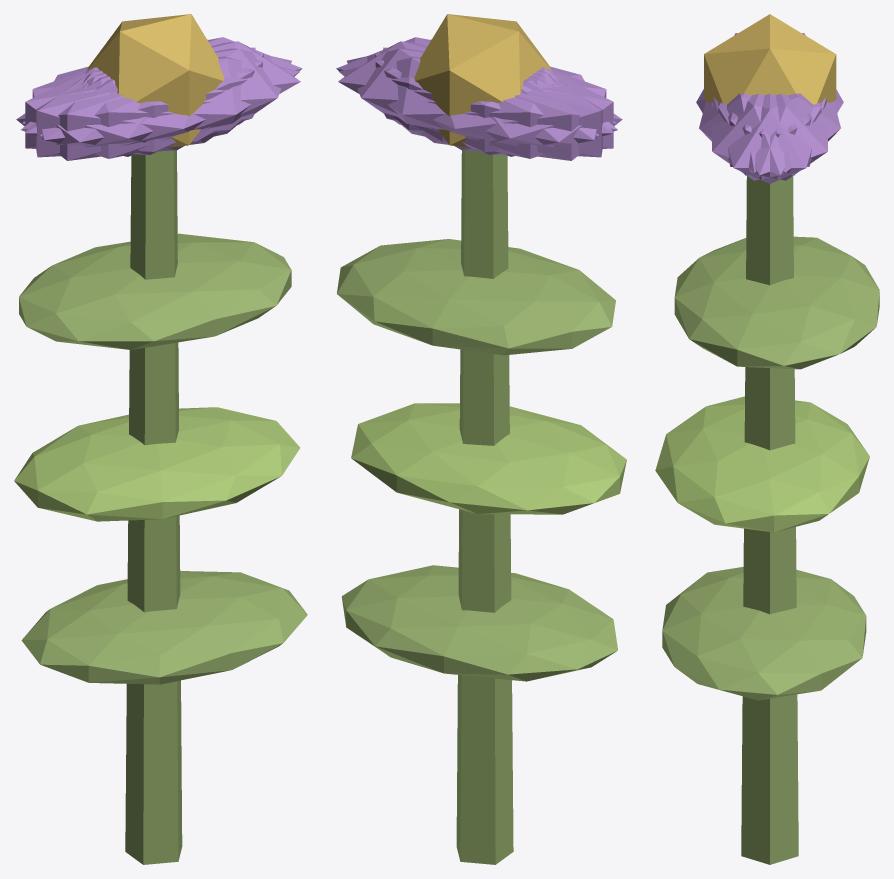
File: senna-occidentalis.glb
3 renders of one model, left to right at view 1: azimuth 30°, elevation 25°; view 2: azimuth 150°, elevation 25°; view 3: azimuth 270°, elevation 25°, orthographic.
Parts seen in each view (by area): view 1: stem, leaf1, leaf0, leaf2, center, petal1, petal6, petal2, petal5, petal7, petal0, petal4 (+2 smaller); view 2: stem, leaf2, leaf1, leaf0, center, petal8, petal3, petal7, petal4, petal2, petal0, petal5 (+2 smaller); view 3: stem, leaf2, leaf1, leaf0, center, petal0, petal4, petal5, petal8, petal1.
Part boxes in pixels (x1,y1,x2,y2): stem: (125,150,182,864); leaf1: (14,407,300,521); leaf0: (21,571,307,684); leaf2: (19,233,291,349); center: (87,14,224,147); petal1: (21,56,299,158); petal6: (16,69,218,160); petal2: (36,47,255,157); petal5: (40,48,291,151); petal7: (25,53,263,154); petal0: (86,41,300,141); petal4: (22,37,302,133); stem: (456,150,513,864); leaf2: (337,239,615,355); leaf1: (351,403,626,514); leaf0: (341,565,617,681); center: (414,14,551,147); petal8: (339,56,617,158); petal3: (420,69,622,160); petal7: (383,47,602,157); petal4: (347,48,598,151); petal2: (375,53,613,154); petal0: (338,41,552,141); petal5: (336,37,616,133); stem: (741,176,798,864); leaf2: (674,236,879,369); leaf1: (655,396,869,532); leaf0: (662,567,866,700); center: (704,14,836,104); petal0: (713,94,826,183); petal4: (718,93,828,180); petal5: (711,93,821,180); petal8: (728,93,840,172); petal1: (699,93,811,172).
Bounding box in the file's own units: 0.1452 × 0.4192 × 0.1038.
